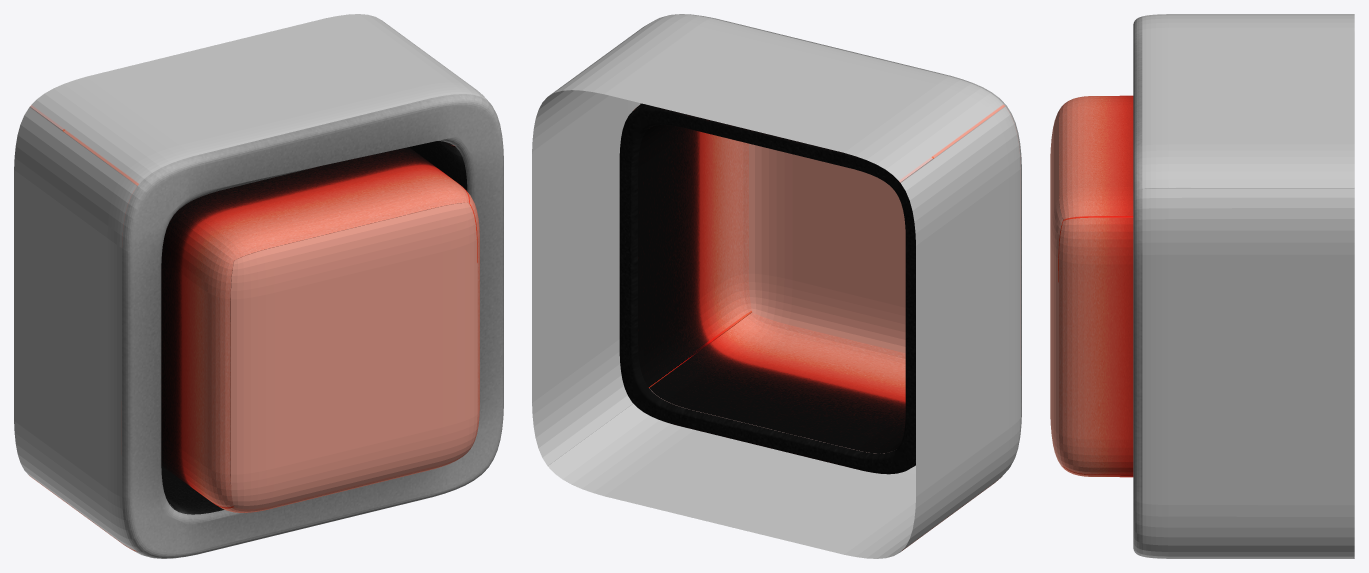
File: checkbox_off.dae
3 renders of one model, left to right at view 1: azimuth 30°, elevation 25°; view 2: azimuth 150°, elevation 25°; view 3: azimuth 270°, elevation 25°, orthographic.
Parts seen in each view (by area): view 1: Cube; view 2: Cube; view 3: Cube.
Part boxes in pixels (x1=…): Cube: x1=14, y1=14, x2=503, y2=558; Cube: x1=532, y1=14, x2=1021, y2=558; Cube: x1=1050, y1=14, x2=1354, y2=558.
Size of the model in its own units: 0.999 by 0.6872 by 0.999.
1 material, 1 textured.
